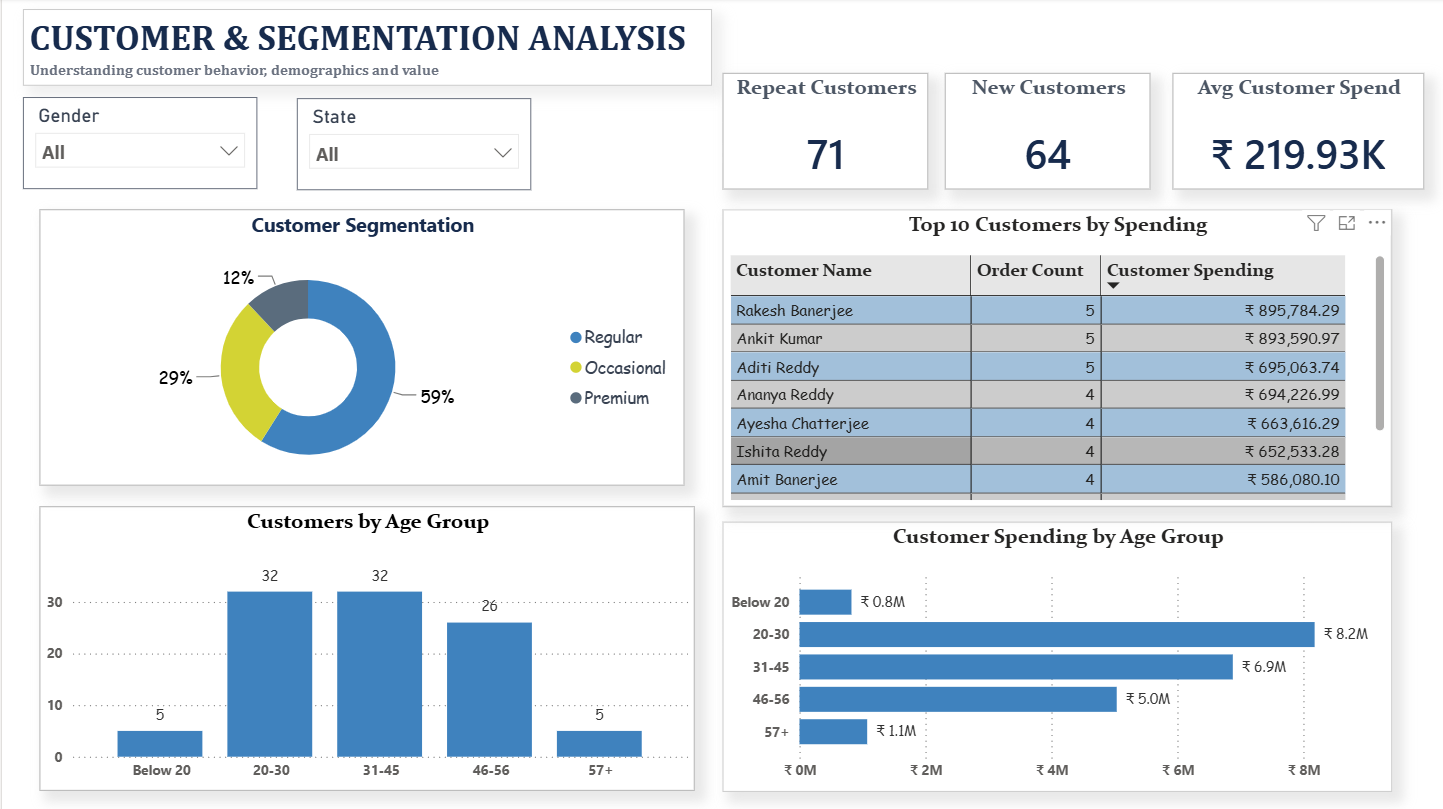

This screenshot's page, from the dashboard's own definition file:
{"tool":"powerbi","page":{"name":"Customer Analysis","canvas":[1280,720],"ordinal":1},"visuals":[{"type":"textbox","box":[18.3,9.8,611.4,68.5],"z":0},{"type":"cardVisual","title":"Repeat Customers","fields":{"Data":["Measure Table.Repeat Customers"]},"box":[639.5,66,183,103.9],"z":1000},{"type":"cardVisual","title":"New Customers","fields":{"Data":["Measure Table.New Customers"]},"box":[836.4,66,183,103.9],"z":2000},{"type":"cardVisual","title":"Avg Customer Spend","fields":{"Data":["Measure Table.Average Customer Spend"]},"box":[1039.4,66,223.8,103.9],"z":3000},{"type":"slicer","fields":{"Values":["Customers.gender"]},"box":[18.3,88,207.9,81.9],"z":4000},{"type":"slicer","fields":{"Values":["Customers.state"]},"box":[261.7,89.3,207.9,81.9],"z":5000},{"type":"clusteredColumnChart","title":"Customers by Age Group","fields":{"Category":["Customers.Age Group"],"Y":["Measure Table.Total Customers"]},"box":[33,451.2,582.1,253.1],"z":6000},{"type":"clusteredBarChart","title":"Customer Spending by Age Group","fields":{"Category":["Customers.Age Group"],"Y":["Measure Table.Customer Spending"]},"box":[639.5,464.7,594.3,239.7],"z":7000},{"type":"donutChart","title":"Customer Segmentation","fields":{"Category":["Customers.Customer Segment"],"Y":["Measure Table.Total Customers"]},"box":[33,187.1,572.3,245.8],"z":8000},{"type":"tableEx","title":"Top 10 Customers by Spending","fields":{"Values":["Customers.customer_name","Measure Table.Customer Order Count","Measure Table.Customer Spending"]},"box":[639.5,187.1,594.3,264.1],"z":9000}]}

Visuals, with their boxes in screenshot pixels (x1, y1, x2, y2), scaled from the page's 1280x720 canvas onto the 1443x809 screenshot:
textbox: (21, 11, 710, 88)
"Repeat Customers" cardVisual: (721, 74, 927, 191)
"New Customers" cardVisual: (943, 74, 1149, 191)
"Avg Customer Spend" cardVisual: (1172, 74, 1424, 191)
slicer - Customers.gender: (21, 99, 255, 191)
slicer - Customers.state: (295, 100, 529, 192)
"Customers by Age Group" clusteredColumnChart: (37, 507, 693, 791)
"Customer Spending by Age Group" clusteredBarChart: (721, 522, 1391, 791)
"Customer Segmentation" donutChart: (37, 210, 682, 486)
"Top 10 Customers by Spending" tableEx: (721, 210, 1391, 507)
